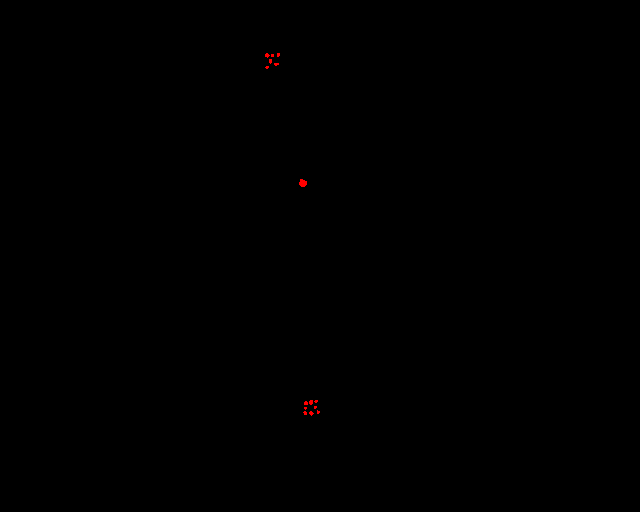Target: (299, 179, 307, 187), (265, 53, 270, 58), (309, 411, 314, 416), (309, 400, 313, 405), (304, 401, 308, 405), (303, 411, 307, 415), (269, 59, 272, 64), (274, 63, 279, 66), (277, 53, 280, 57), (265, 66, 269, 69), (314, 400, 318, 403), (317, 410, 320, 414), (271, 54, 274, 57), (314, 406, 317, 409), (304, 407, 307, 410)
